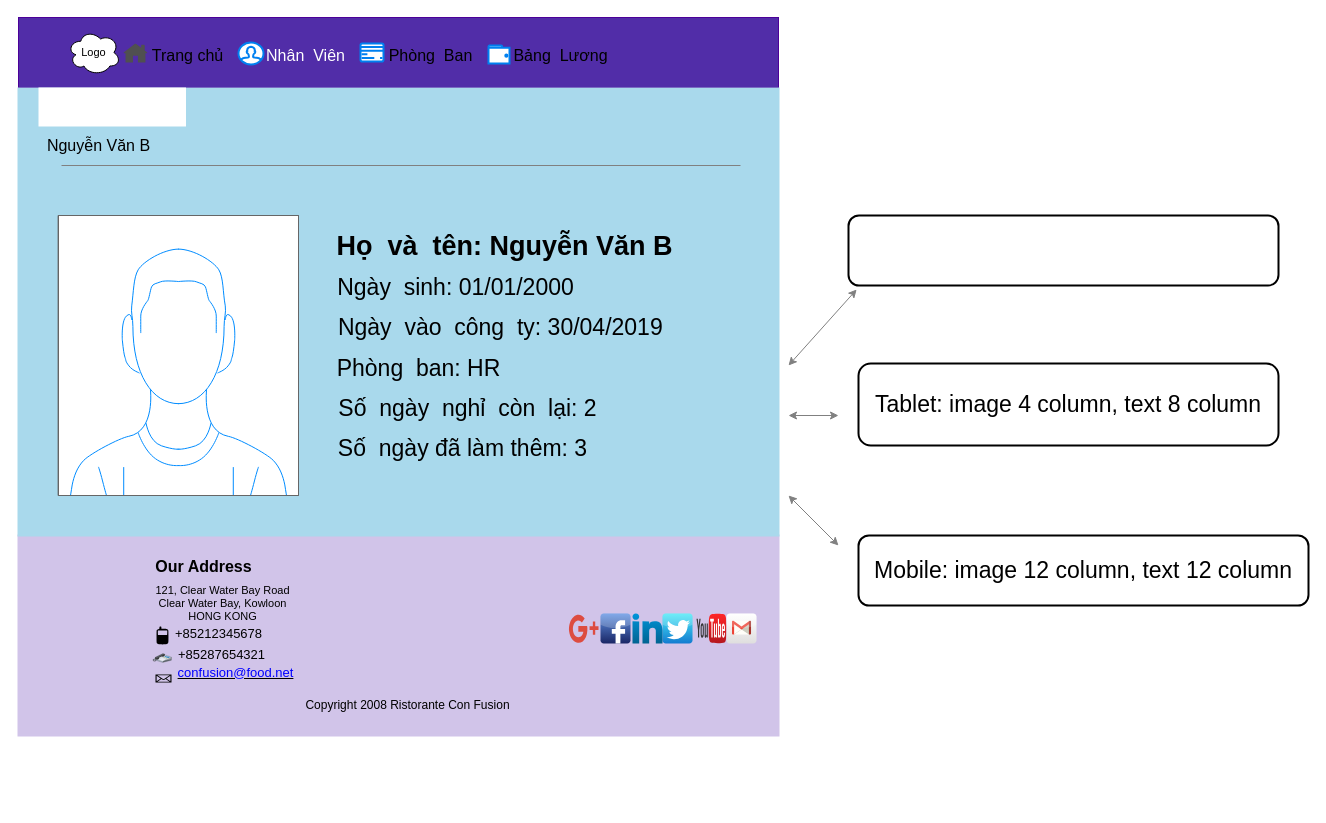
Image size: 1326x823. Some labels were removed from this diagram. Here are the shapes that lost their labels. From the top down, the centre of each, then its label:
(112,106): Nhân Viên / Nguyễn Văn B
(1063,250): Laptop: image 3 column, text 9 column
